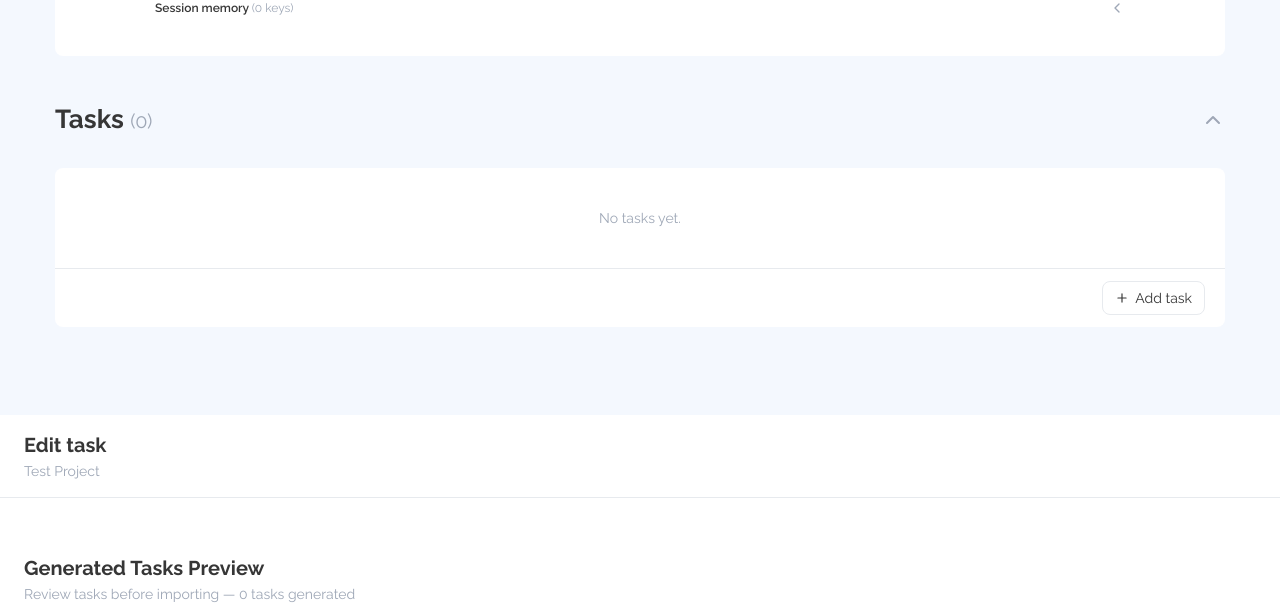
Test: routes/projects/[id=uuid]/edit/+page.svelte › AC-012: Typing a tag with comma confirms the chip and updates tags_json
(page scrolled)
Click the button with test id "add-task-btn" at (1154, 298), box [1102, 281, 1205, 315]
(page scrolled)
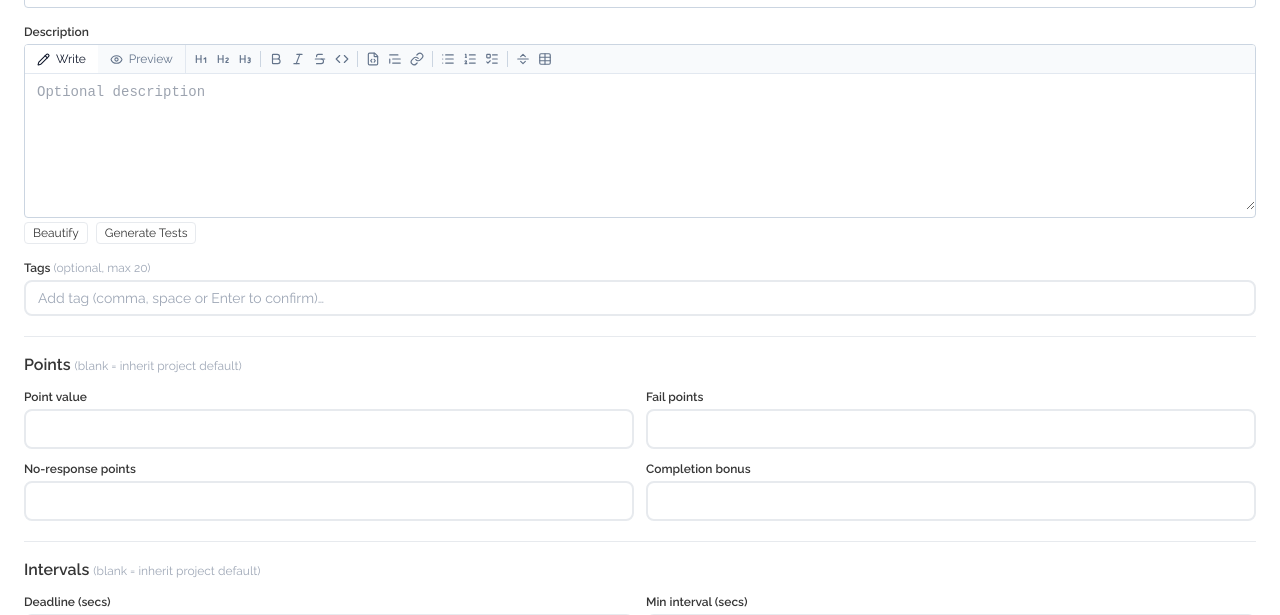
Expected: the field with test id "drawer-tag-input" is shown
Comma-suffix triggers confirm in the oninput handler (no separate keydown needed).
Type "mytag," into the field with test id "drawer-tag-input" at (640, 298), box [24, 280, 1256, 316]
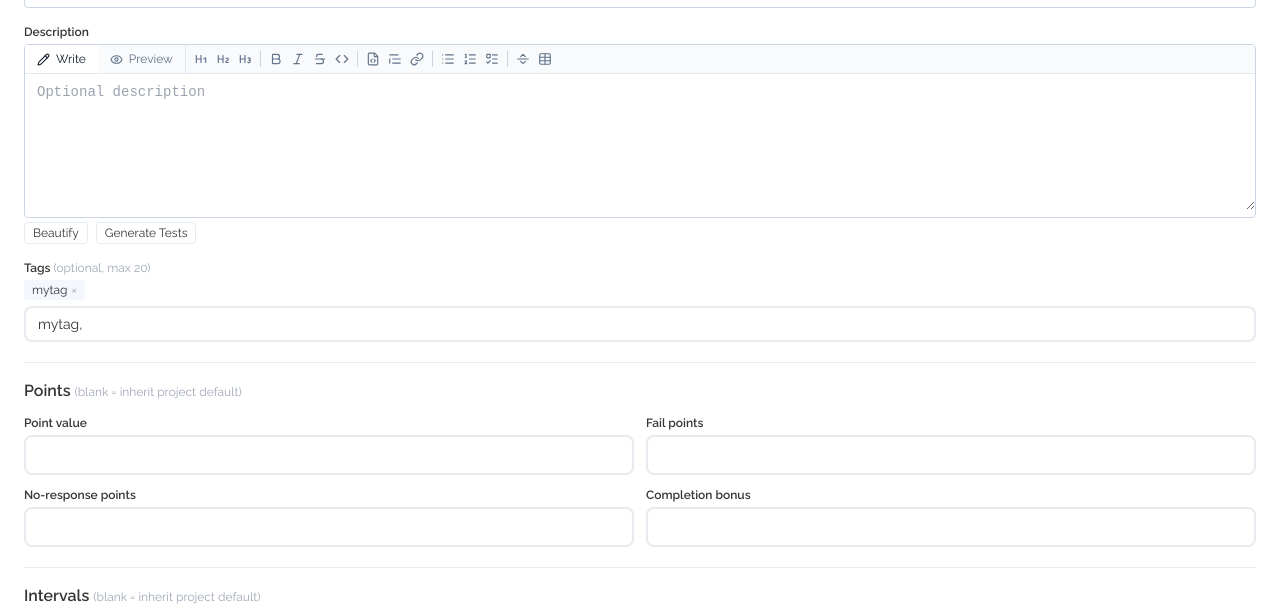
Expected: the element with test id "add-task-tags-json" is shown, [24, 260, 1256, 342]
Expected: the element with test id "drawer-task-tags" is shown, [24, 280, 85, 300]
Expected: the element with test id "drawer-task-tags" shows "mytag", [32, 283, 67, 297]
